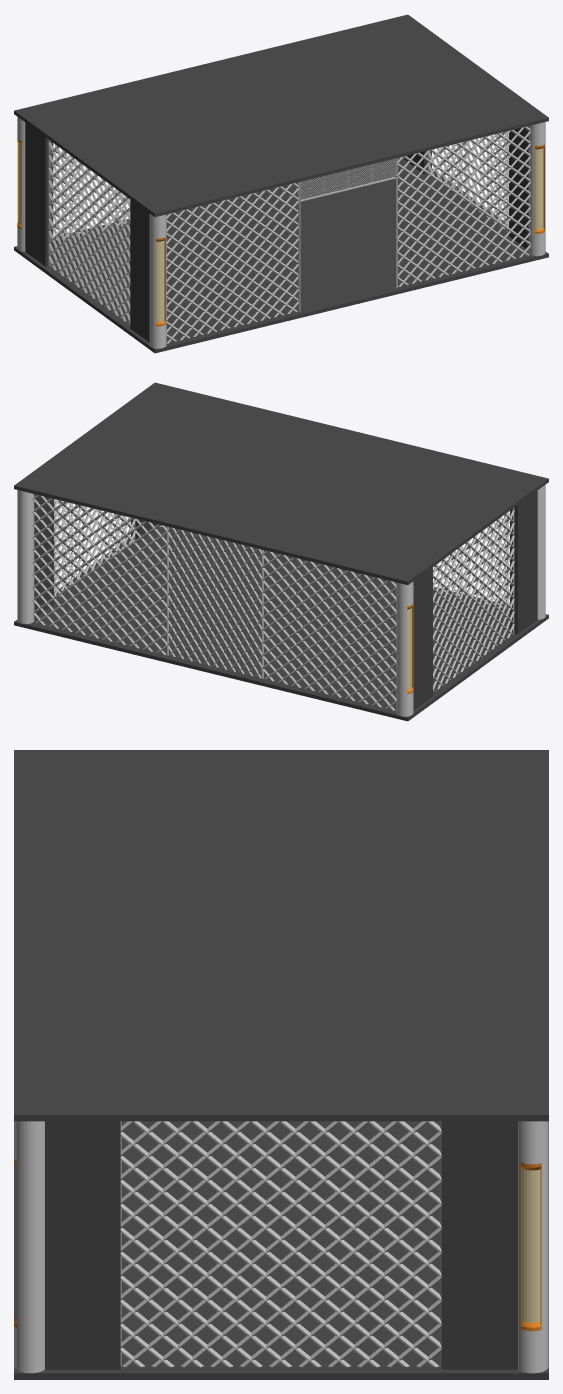
Rendered from Tel_Kabin.fbx.
The picture shows the model from 3 angles, top to bottom: view 1: azimuth 30°, elevation 25°; view 2: azimuth 150°, elevation 25°; view 3: azimuth 270°, elevation 25°; orthographic projection. The views are drawn at different scales.
Parts seen in each view (by area): view 1: Yapi, Plane.001, Plane, Plane.009, Plane.010, Plane.006, Plane.002, Plane.005; view 2: Yapi, Plane.006, Plane.007, Plane.009, Plane.008, Plane.010, Plane; view 3: Yapi, Plane.010.
Part boxes in pixels (x1,y1,x2,y2): Yapi: (14, 14, 548, 353); Plane.001: (396, 126, 530, 286); Plane: (166, 182, 299, 343); Plane.009: (48, 140, 130, 324); Plane.010: (427, 131, 508, 231); Plane.006: (53, 147, 130, 240); Plane.002: (300, 176, 324, 199); Plane.005: (372, 158, 396, 182); Yapi: (14, 382, 548, 721); Plane.006: (262, 550, 396, 710); Plane.007: (32, 495, 167, 654); Plane.009: (433, 508, 514, 691); Plane.008: (167, 526, 262, 678); Plane.010: (54, 499, 135, 599); Plane: (433, 513, 509, 608); Yapi: (14, 750, 548, 1379); Plane.010: (120, 1121, 441, 1367).
Bounding box in the file's own units: 800 × 271 × 496.
